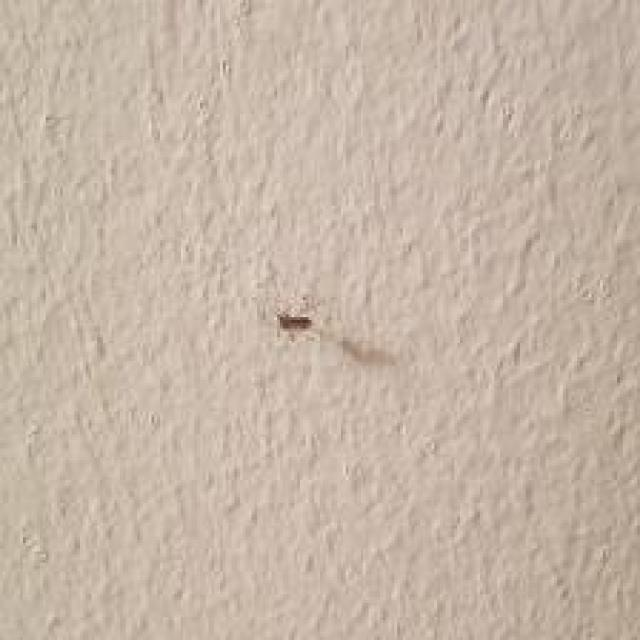Culex: (276, 312, 313, 332)
